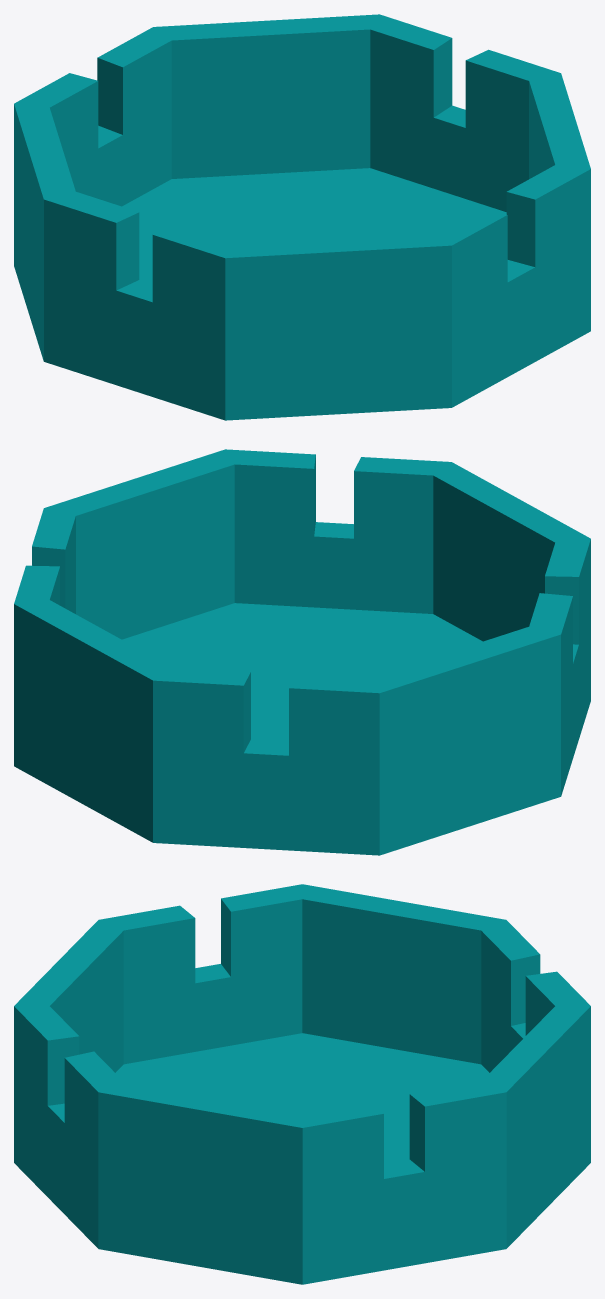
The model's file is Ashtray.fbx.
3 views of the same model, one above another, from view 1: azimuth 30°, elevation 25°; view 2: azimuth 150°, elevation 25°; view 3: azimuth 270°, elevation 25° (orthographic). The views are drawn at different scales.
Parts seen in each view (by area): view 1: Ashtray; view 2: Ashtray; view 3: Ashtray.
Part boxes in pixels (box(x1,y1,x2,y2)): Ashtray: box(14, 14, 590, 420); Ashtray: box(14, 449, 590, 855); Ashtray: box(14, 884, 590, 1284).
Size of the model in its own units: 0.209 by 0.0627 by 0.209.
